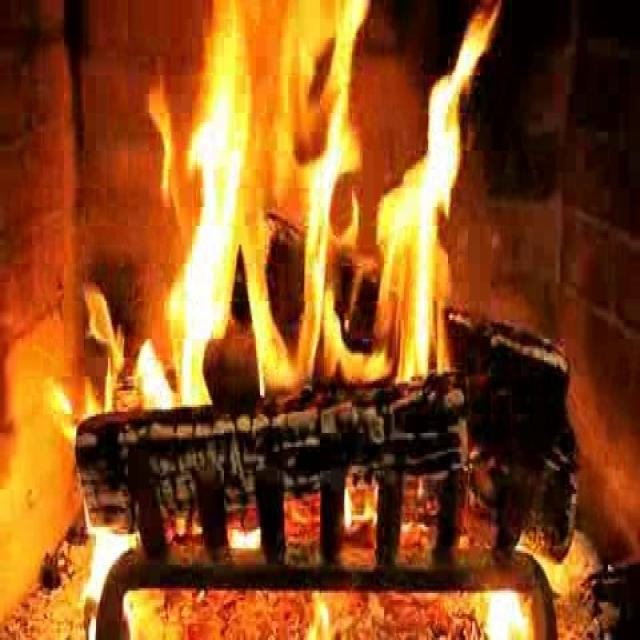fire: (134, 7, 474, 430)
